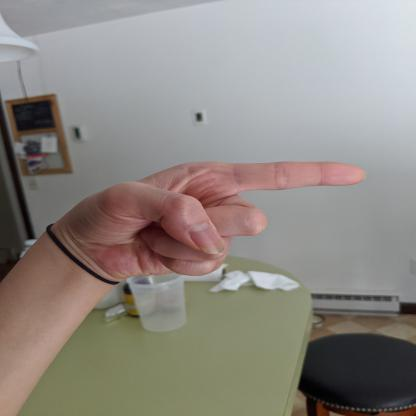G: (58, 157, 370, 285)
